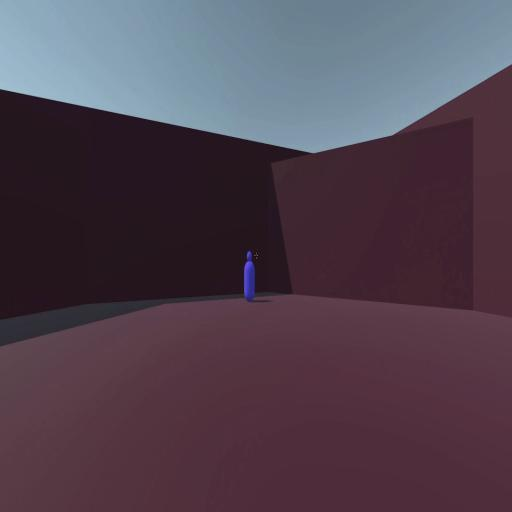Crosshair: (253, 251, 260, 261)
Target: (243, 251, 256, 302)
